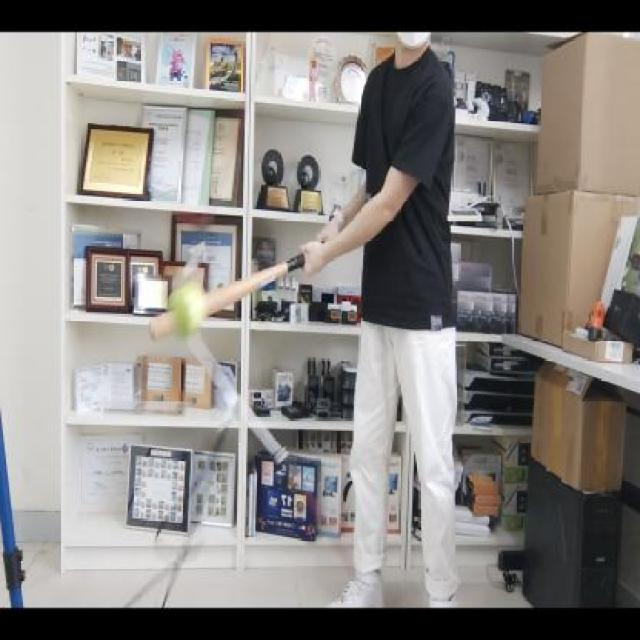baseball: (165, 280, 202, 337)
